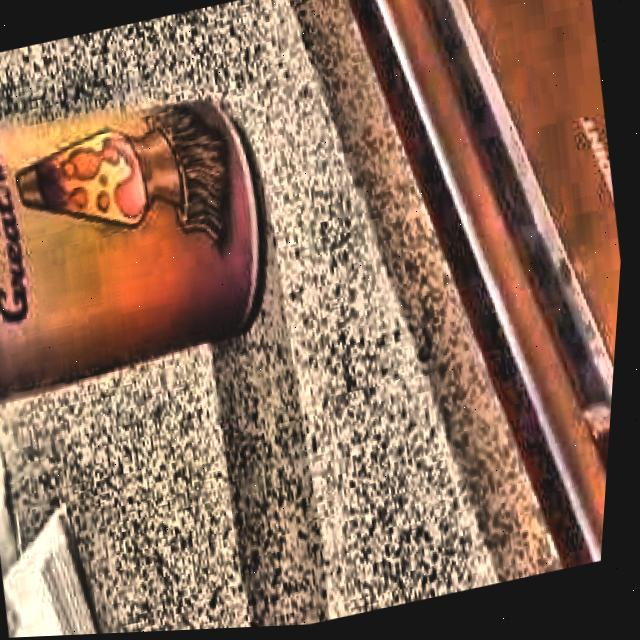metal: (0, 51, 314, 417)
